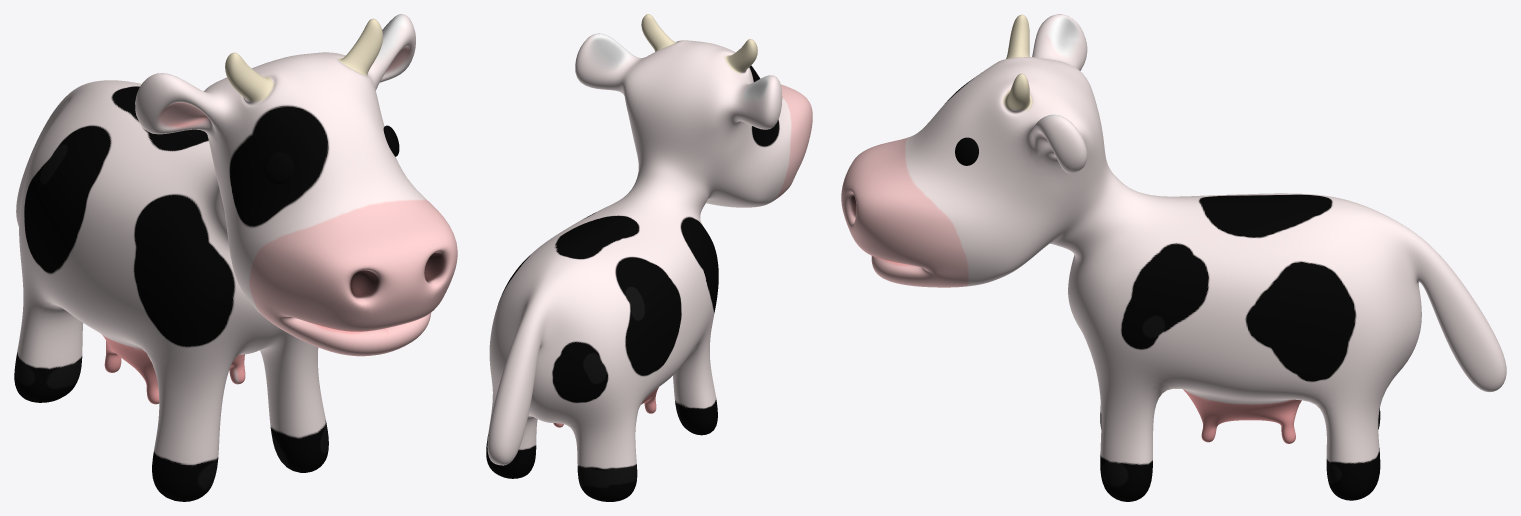
File: Cow.fbx
The picture shows the model from 3 angles, left to right: view 1: azimuth 30°, elevation 25°; view 2: azimuth 150°, elevation 25°; view 3: azimuth 270°, elevation 25°; orthographic projection. The views are drawn at different scales.
Visible parts, largest first — view 1: Cow, Eyes; view 2: Cow; view 3: Cow.
Boxes of the visible parts, x1,y1,x2,y2 form: Cow: [14, 14, 457, 501]; Eyes: [264, 125, 399, 184]; Cow: [486, 14, 812, 501]; Cow: [841, 14, 1506, 501].
Bounding box in the file's own units: 27.84 × 48.16 × 67.75.
Materials: 2 (1 with a texture image).
